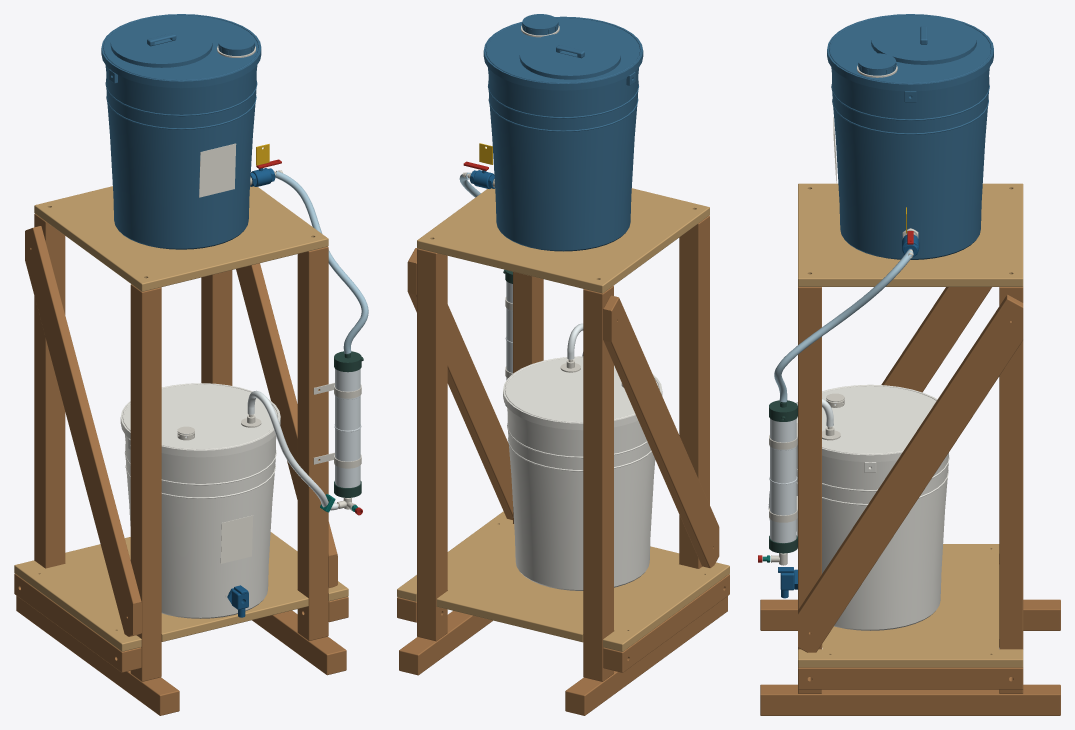
The picture shows the model from 3 angles, left to right: view 1: azimuth 30°, elevation 25°; view 2: azimuth 150°, elevation 25°; view 3: azimuth 270°, elevation 25°; orthographic projection. The views are drawn at different scales.
Parts seen in each view (by area): view 1: Raw bucket (outlet hole cut, fill line marked), Clean bucket (tap hole cut), Upper shelf, plywood 18 mm, Leg front right, 45 x 45 x 837, Leg front left, 45 x 45 x 837, Diagonal brace left, 70 x 20, Lower shelf, plywood 18 mm, notched, Leg back left, 45 x 45 x 837, Clean lid (inlet and vent holes cut), Raw lid (fill and dosing holes cut), Diagonal brace right, 70 x 20, Fill cover with handle (+10 smaller); view 2: Raw bucket (outlet hole cut, fill line marked), Clean bucket (tap hole cut), Lower shelf, plywood 18 mm, notched, Upper shelf, plywood 18 mm, Leg back right, 45 x 45 x 837, Leg back left, 45 x 45 x 837, Diagonal brace left, 70 x 20, Leg front left, 45 x 45 x 837, Diagonal brace right, 70 x 20, Clean lid (inlet and vent holes cut), Raw lid (fill and dosing holes cut), Fill cover with handle (+6 smaller); view 3: Raw bucket (outlet hole cut, fill line marked), Diagonal brace right, 70 x 20, Clean bucket (tap hole cut), Upper shelf, plywood 18 mm, Lower shelf, plywood 18 mm, notched, Foot right, 45 x 45 x 560, Leg back right, 45 x 45 x 837, Leg front right, 45 x 45 x 837, Clean lid (inlet and vent holes cut), Raw lid (fill and dosing holes cut), Lower rail right, 45 x 45 x 420, Diagonal brace left, 70 x 20 (+7 smaller).
Boxes of the visible parts, bbox=[...] form: Raw bucket (outlet hole cut, fill line marked): bbox=[105, 65, 257, 249]; Clean bucket (tap hole cut): bbox=[125, 434, 276, 618]; Upper shelf, plywood 18 mm: bbox=[34, 186, 328, 291]; Leg front right, 45 x 45 x 837: bbox=[297, 246, 328, 640]; Leg front left, 45 x 45 x 837: bbox=[130, 284, 161, 681]; Diagonal brace left, 70 x 20: bbox=[25, 226, 141, 636]; Lower shelf, plywood 18 mm, notched: bbox=[14, 532, 348, 651]; Leg back left, 45 x 45 x 837: bbox=[34, 214, 65, 568]; Clean lid (inlet and vent holes cut): bbox=[120, 383, 280, 457]; Raw lid (fill and dosing holes cut): bbox=[101, 14, 261, 88]; Diagonal brace right, 70 x 20: bbox=[236, 263, 337, 587]; Fill cover with handle: bbox=[110, 21, 212, 67]; Raw bucket (outlet hole cut, fill line marked): bbox=[488, 68, 638, 251]; Clean bucket (tap hole cut): bbox=[507, 407, 655, 590]; Lower shelf, plywood 18 mm, notched: bbox=[397, 511, 729, 651]; Upper shelf, plywood 18 mm: bbox=[417, 188, 709, 293]; Leg back right, 45 x 45 x 837: bbox=[417, 248, 447, 641]; Leg back left, 45 x 45 x 837: bbox=[583, 286, 613, 681]; Diagonal brace left, 70 x 20: bbox=[603, 295, 719, 567]; Leg front left, 45 x 45 x 837: bbox=[679, 215, 709, 568]; Diagonal brace right, 70 x 20: bbox=[407, 248, 512, 519]; Clean lid (inlet and vent holes cut): bbox=[503, 356, 662, 430]; Raw lid (fill and dosing holes cut): bbox=[483, 16, 643, 90]; Fill cover with handle: bbox=[519, 33, 620, 79]; Raw bucket (outlet hole cut, fill line marked): bbox=[831, 67, 989, 259]; Diagonal brace right, 70 x 20: bbox=[798, 294, 1023, 652]; Clean bucket (tap hole cut): bbox=[796, 444, 949, 630]; Upper shelf, plywood 18 mm: bbox=[798, 183, 1023, 286]; Lower shelf, plywood 18 mm, notched: bbox=[798, 544, 1023, 667]; Foot right, 45 x 45 x 560: bbox=[760, 684, 1060, 715]; Leg back right, 45 x 45 x 837: bbox=[999, 286, 1023, 693]; Leg front right, 45 x 45 x 837: bbox=[798, 286, 821, 693]; Clean lid (inlet and vent holes cut): bbox=[796, 384, 937, 462]; Raw lid (fill and dosing holes cut): bbox=[827, 14, 993, 91]; Lower rail right, 45 x 45 x 420: bbox=[798, 667, 1023, 689]; Diagonal brace left, 70 x 20: bbox=[881, 287, 991, 392].
Bounding box in the file's own units: 0.5348 × 1.29 × 0.5641.
